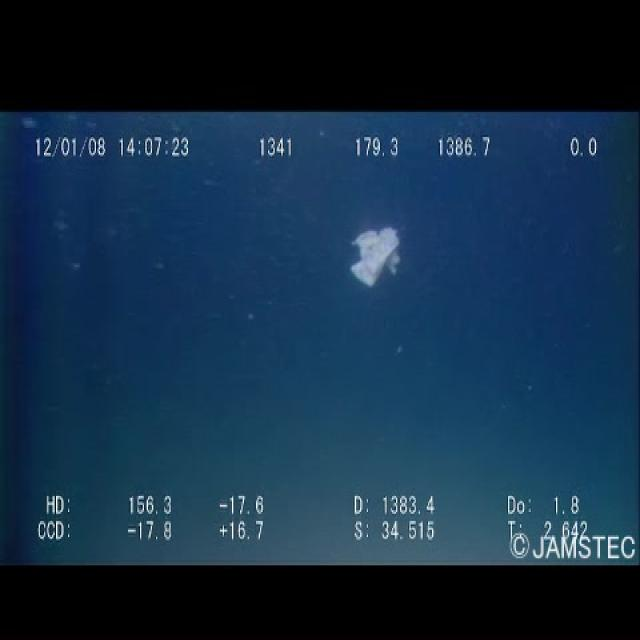plastic: (343, 219, 404, 286)
